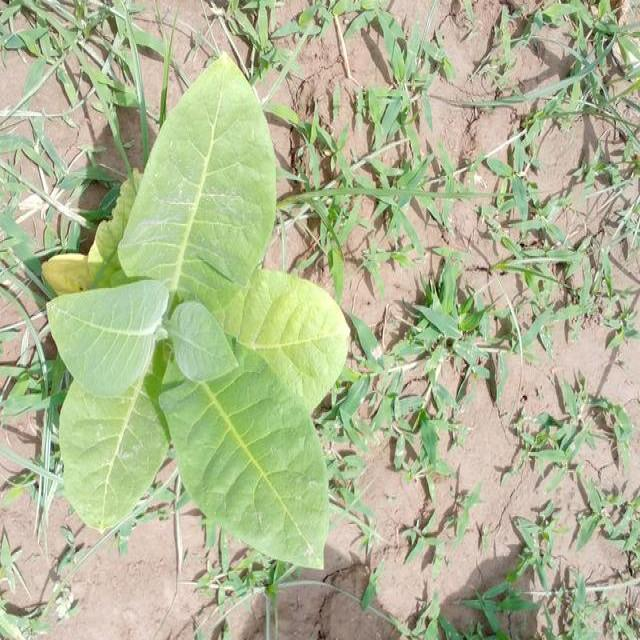crop: (64, 48, 348, 579)
